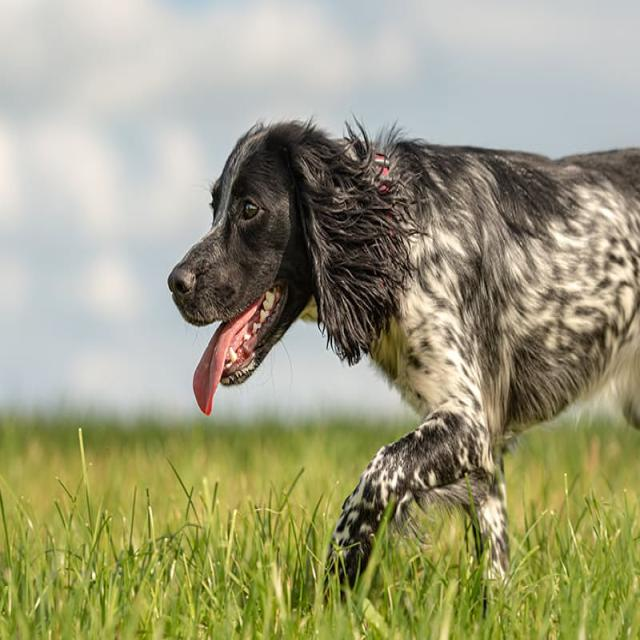fungal infection: (542, 244, 640, 333), (402, 320, 483, 418), (406, 235, 474, 321), (510, 246, 568, 332), (416, 423, 494, 480), (473, 492, 510, 580), (576, 191, 640, 239), (366, 449, 426, 499), (338, 495, 373, 563)
